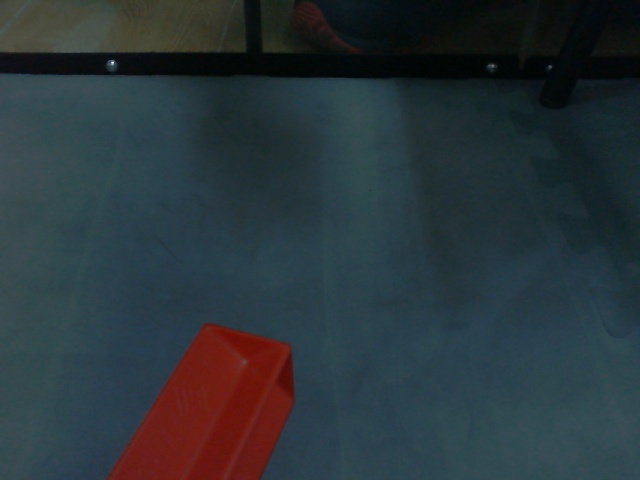RedSample: (108, 321, 296, 480)
